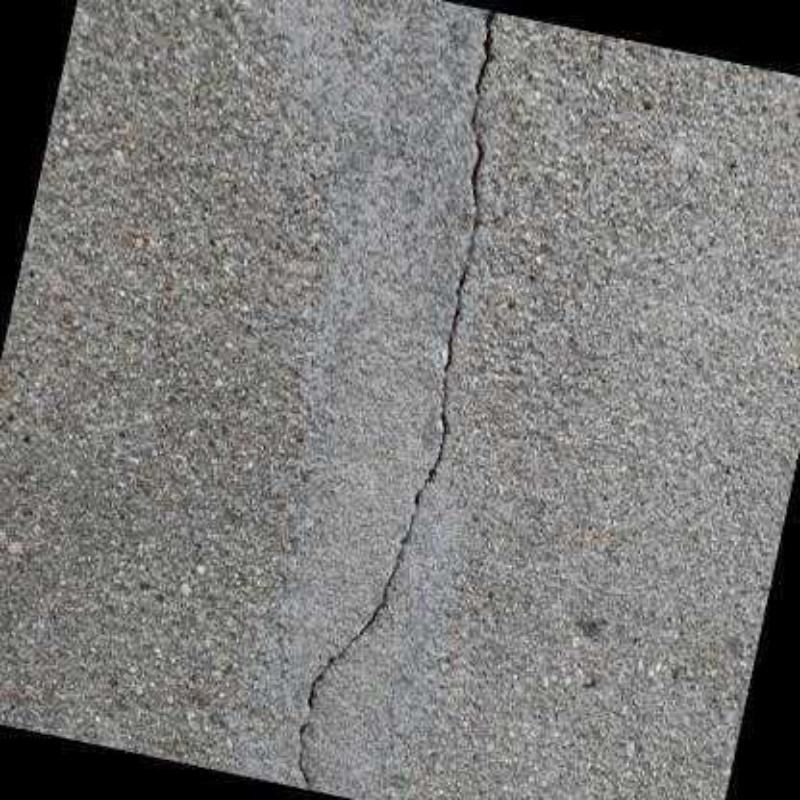pothole: (294, 11, 493, 786)
